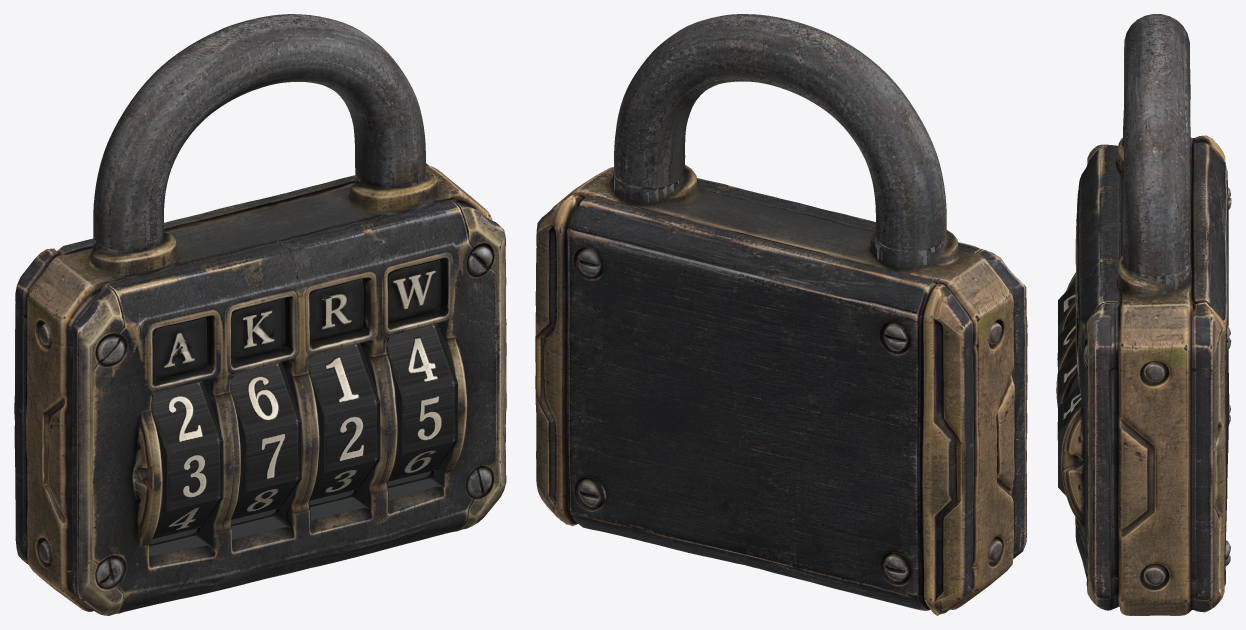
Rendered from Lock_1to9_Animated.fbx.
3 views of the same model, side by side, from view 1: azimuth 30°, elevation 25°; view 2: azimuth 150°, elevation 25°; view 3: azimuth 270°, elevation 25° (orthographic). The views are drawn at different scales.
Visible parts, largest first — view 1: Lock_Body, Lock_Head, Dial_01, Dial_03, Dial_02, Dial_04; view 2: Lock_Body, Lock_Head; view 3: Lock_Body, Lock_Head, Dial_04, Dial_03, Dial_01, Dial_02.
Boxes of the visible parts, x1,y1,x2,y2 form: Lock_Body: (14, 163, 506, 615); Lock_Head: (93, 14, 425, 251); Dial_01: (135, 381, 223, 538); Dial_03: (308, 343, 380, 500); Dial_02: (177, 346, 301, 519); Dial_04: (387, 323, 457, 481); Lock_Body: (535, 165, 1027, 615); Lock_Head: (614, 14, 946, 265); Lock_Body: (1056, 135, 1231, 615); Lock_Head: (1122, 14, 1190, 289); Dial_04: (1058, 385, 1226, 496); Dial_03: (1058, 352, 1076, 406); Dial_01: (1058, 281, 1075, 335); Dial_02: (1058, 317, 1075, 370).
Size of the model in its own units: 83.59 by 97.76 by 31.19.
5 materials, 2 textured.
